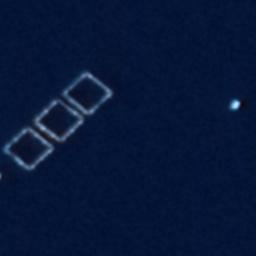square_solid: (2, 122, 64, 175), (57, 67, 117, 121), (30, 96, 92, 146)
